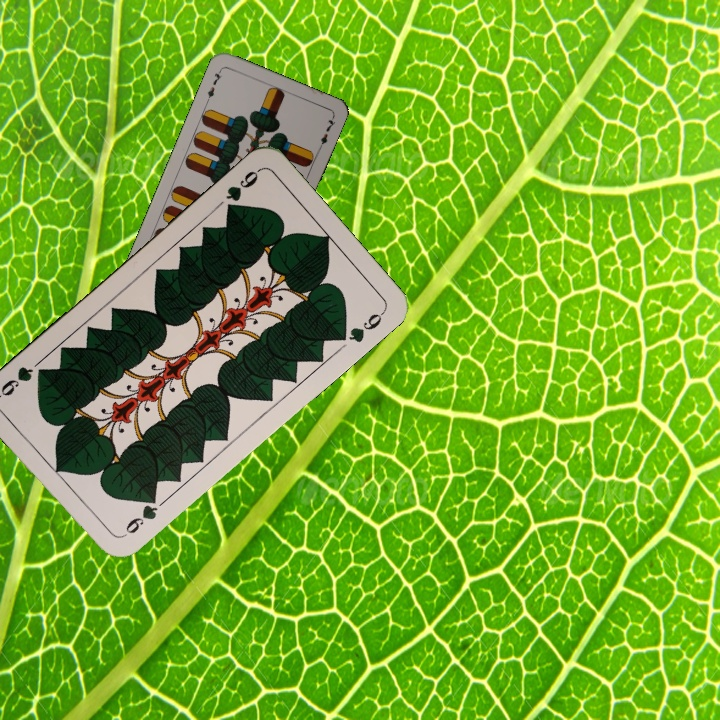E7: (202, 65, 224, 104)
G9: (118, 490, 167, 540), (221, 165, 263, 216)
